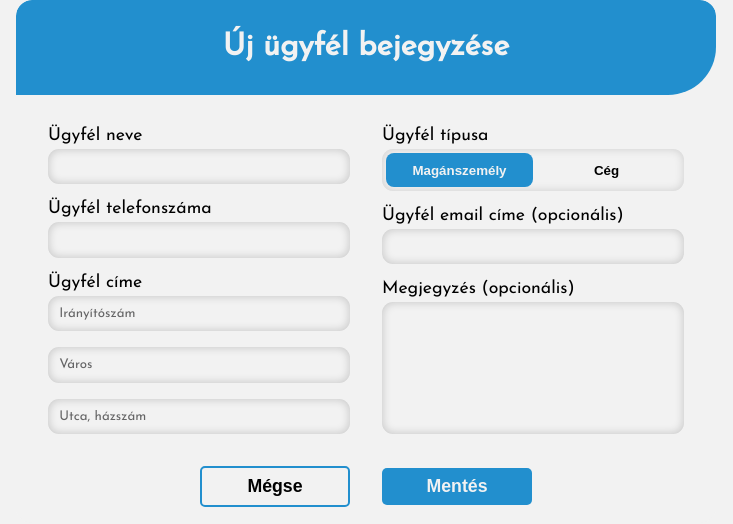
Test: AddEditClientModal › should set the client type to company when the slider is clicked
Click the button "Cég": (606, 170) [533, 153, 680, 187]
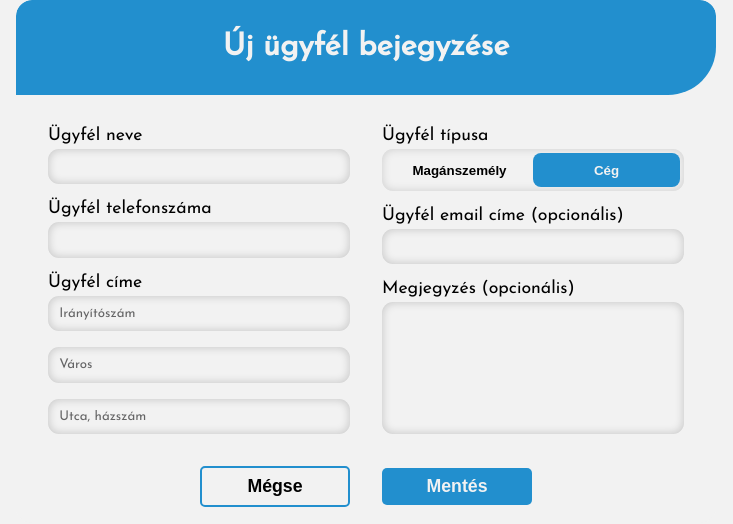
Now the element with class "slide-right" is shown, box [533, 153, 680, 187]
